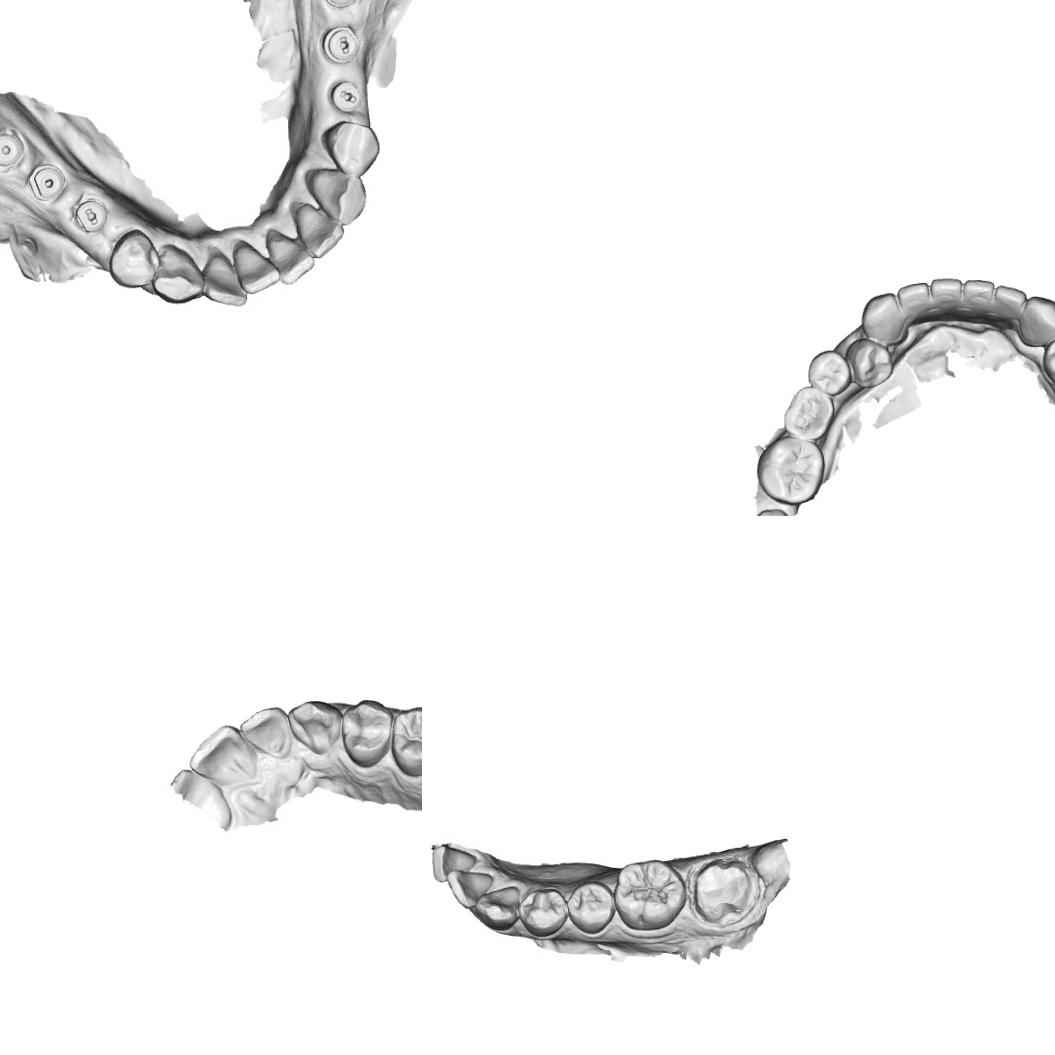canine: (286, 696, 345, 758), (312, 166, 370, 228), (150, 247, 205, 306), (860, 291, 906, 346), (474, 884, 522, 932), (1016, 294, 1055, 348)
crown: (686, 853, 763, 928)
implant: (27, 162, 67, 204), (0, 126, 27, 175), (320, 0, 362, 11)
implant_minus: (318, 24, 362, 64), (68, 195, 112, 235), (324, 78, 365, 114)
incisor: (188, 720, 258, 784), (291, 202, 346, 261), (241, 704, 294, 762), (266, 228, 317, 285), (200, 254, 248, 308), (236, 242, 282, 297), (444, 868, 496, 910), (897, 282, 934, 336), (430, 842, 477, 883), (992, 284, 1028, 328), (930, 277, 966, 318), (962, 278, 994, 322)
molar: (612, 856, 689, 933), (756, 435, 826, 506), (781, 384, 836, 442)
premolar: (339, 698, 395, 768), (104, 227, 162, 290), (318, 118, 382, 175), (565, 879, 616, 936), (516, 886, 569, 938), (846, 337, 896, 389), (389, 705, 422, 778), (806, 348, 852, 396), (1040, 331, 1055, 381)
